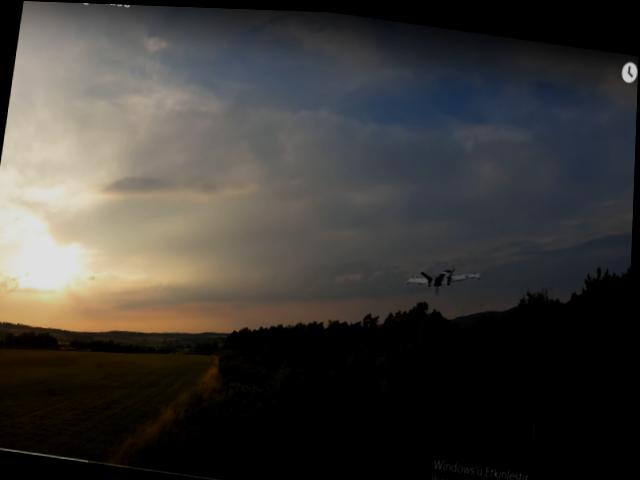plane: (407, 259, 484, 296)
